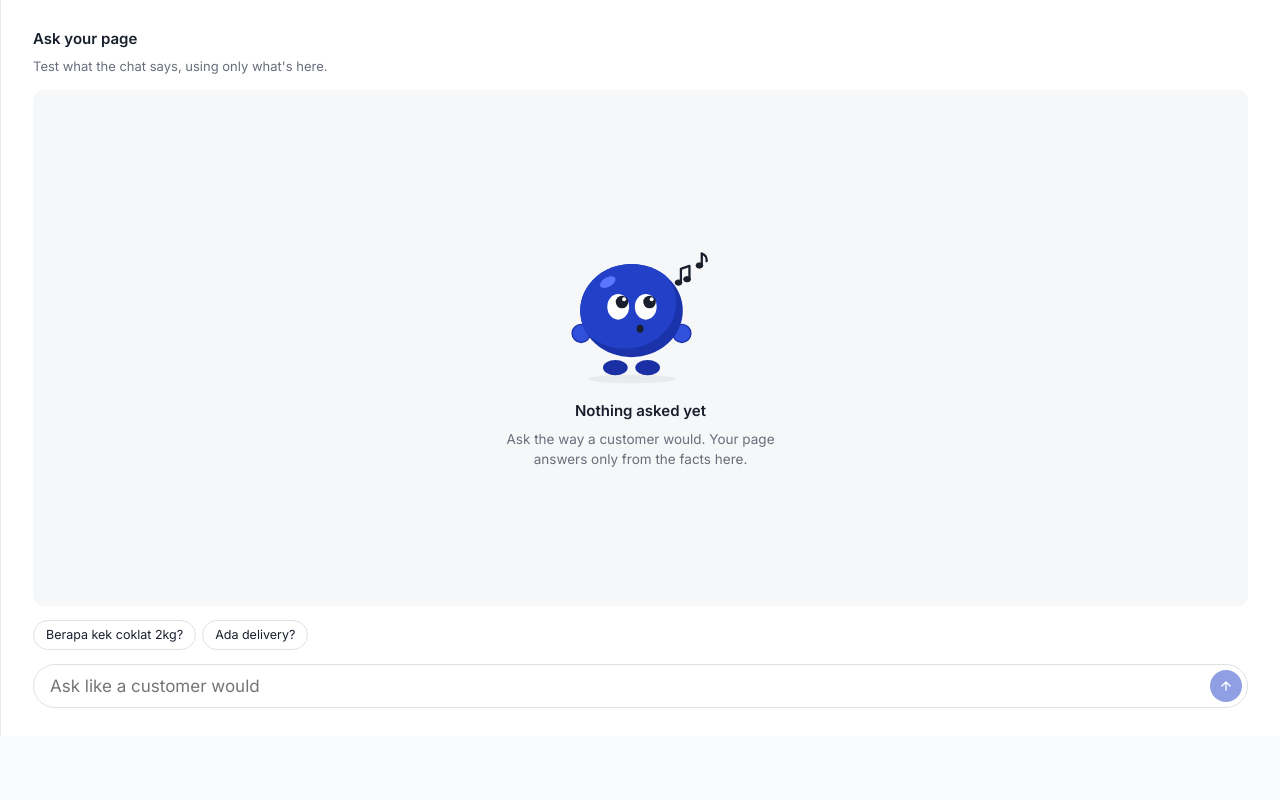
AskPanel › shows Peek whistling until something is asked
Check: the text "Nothing asked yet" is shown, box [575, 400, 706, 423]
Check: the 1st icon is shown, box [546, 227, 736, 388]
Click the button "Ada delivery?".
click(255, 635)  # box [202, 620, 308, 650]
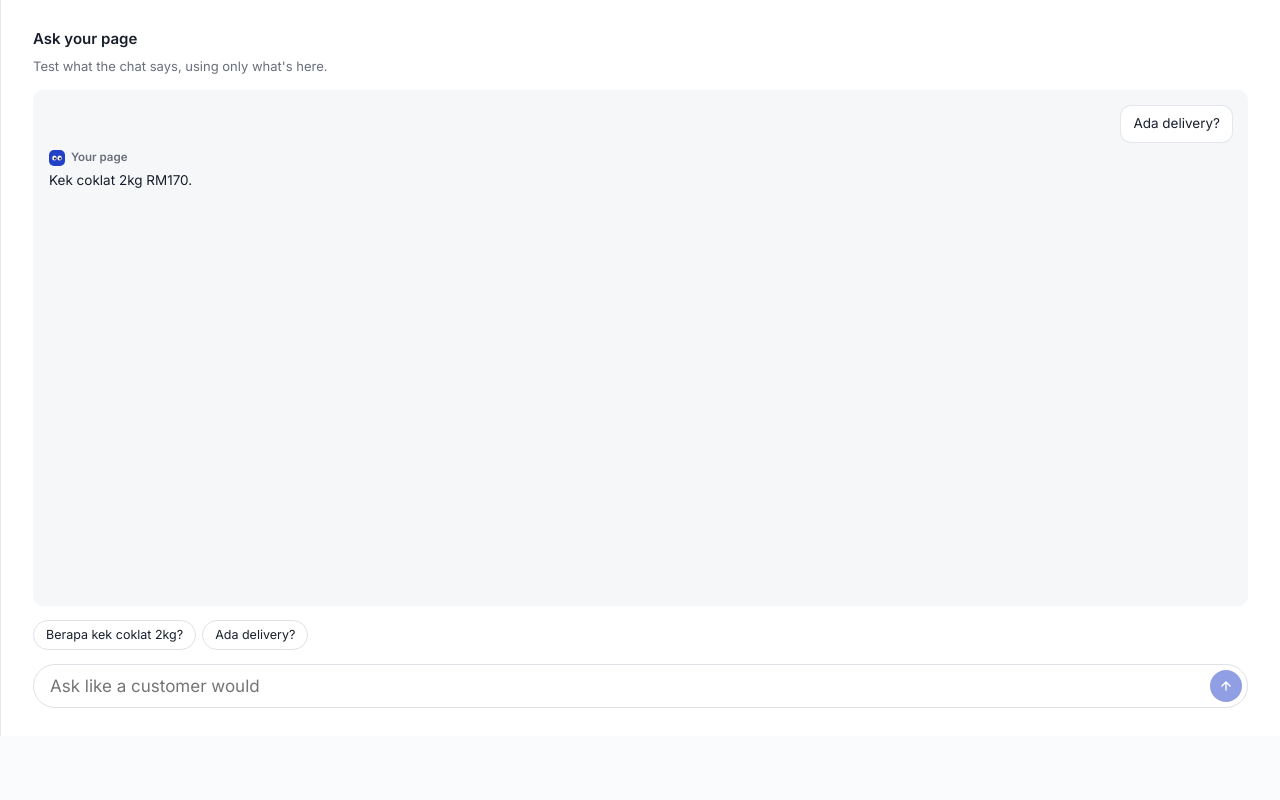
Check: the text "Kek coklat 2kg RM170." is shown, box [49, 170, 192, 190]
Check: the text "Nothing asked yet" is gone
